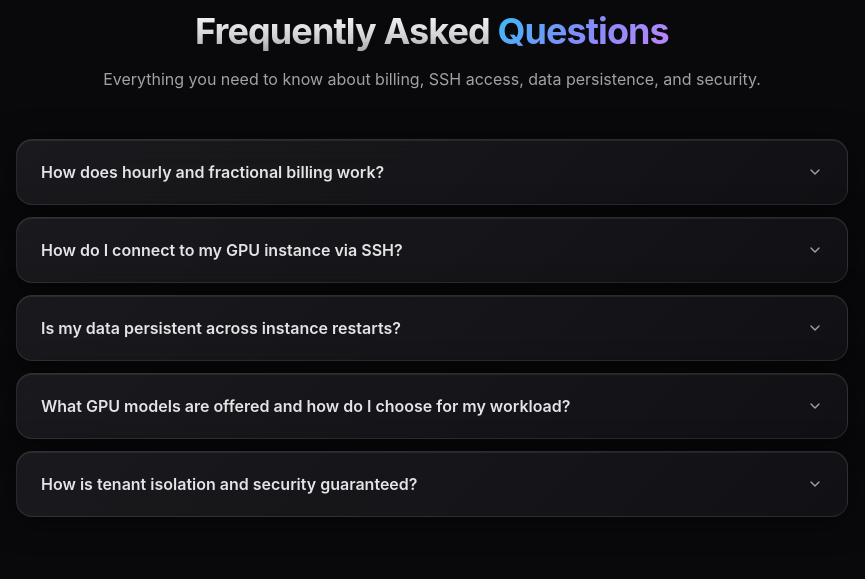
Test case: Tier 1: Comprehensive Feature Coverage (16 Features, ≥5 Tests Each) › Feature 14: Collapsible FAQ Accordion › 14.5: Multiple items can be switched without corrupting other item contents
Click the button "How does hourly and fractional billing work?".
click(213, 172)  # box [17,140,847,204]
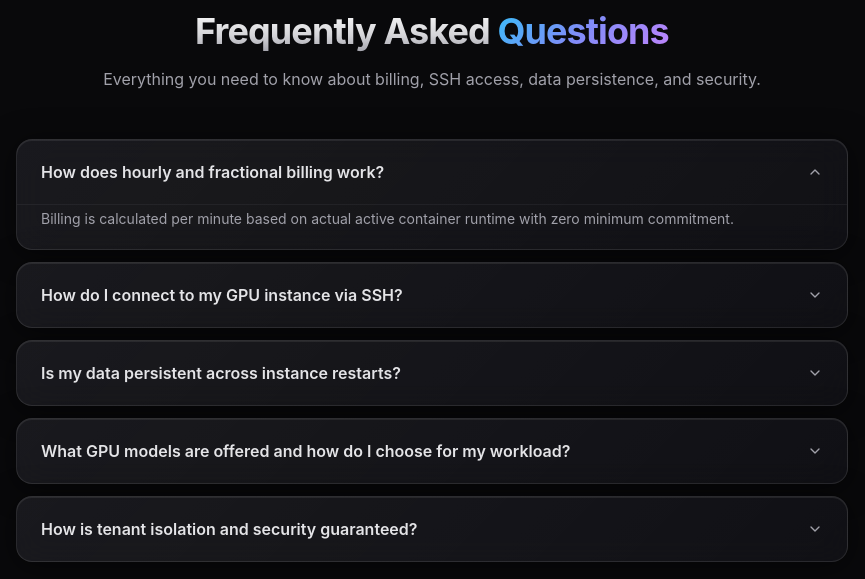
Result: the button "How does hourly and fractional billing work?" is expanded at [17,140,847,204]
Click the button "How is tenant isolation and security guaranteed?".
click(229, 529)  # box [17,497,847,561]
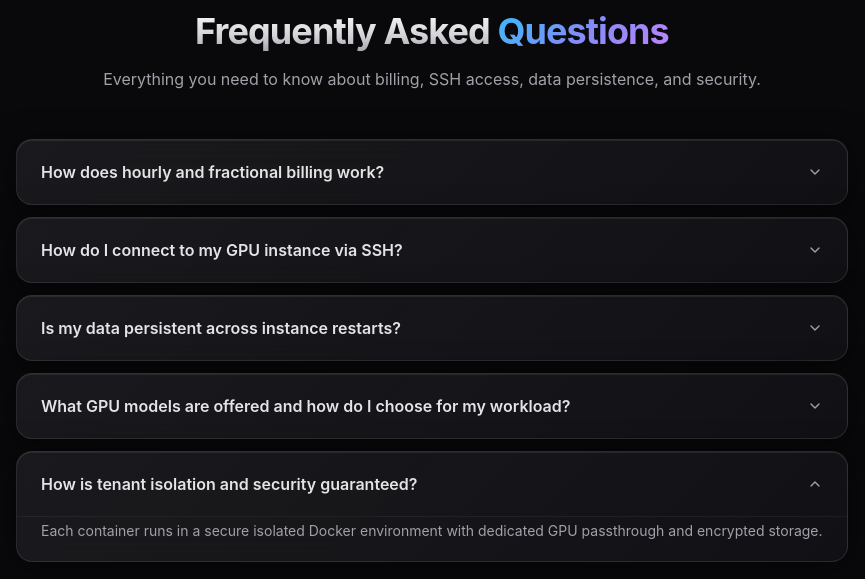
Result: the button "How does hourly and fractional billing work?" is collapsed at [17,140,847,204]
Result: the button "How is tenant isolation and security guaranteed?" is expanded at [17,452,847,516]
